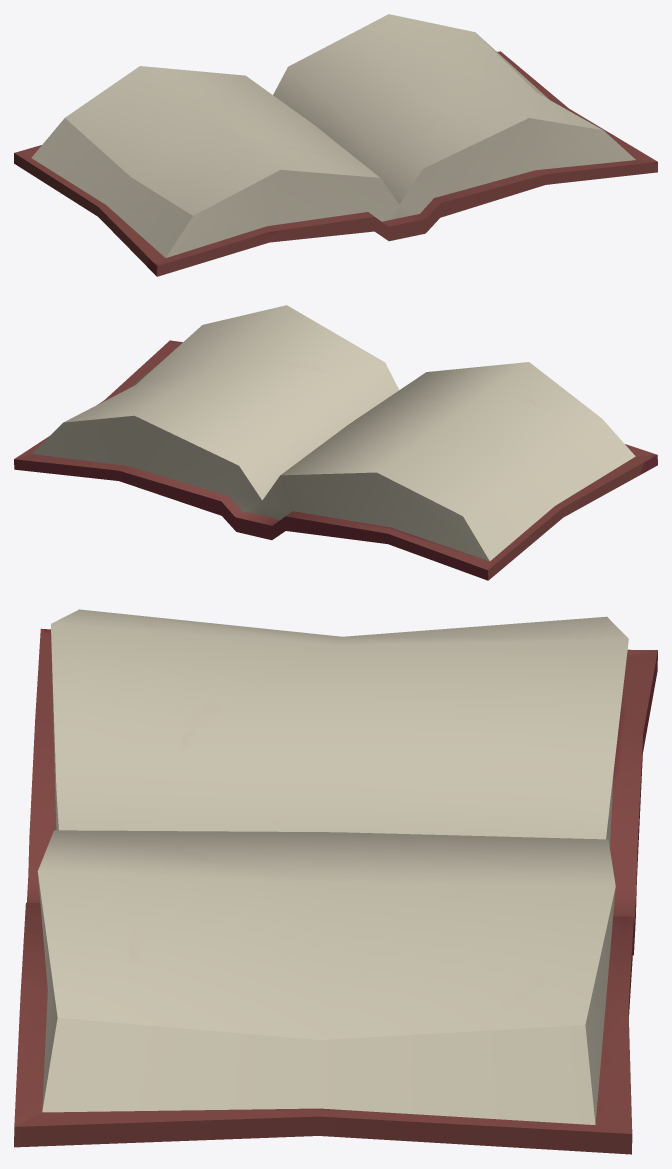
File: Open_Herbarium.fbx
3 renders of one model, top to bottom at view 1: azimuth 30°, elevation 25°; view 2: azimuth 150°, elevation 25°; view 3: azimuth 270°, elevation 25°, orthographic. The views are drawn at different scales.
Parts seen in each view (by area): view 1: Open_Herbarium; view 2: Open_Herbarium; view 3: Open_Herbarium.
Part boxes in pixels (x1,y1,x2,y2): Open_Herbarium: (14, 14, 657, 276); Open_Herbarium: (14, 305, 657, 580); Open_Herbarium: (14, 609, 657, 1154).
Bounding box in the file's own units: 0.6769 × 0.1271 × 0.3868.
